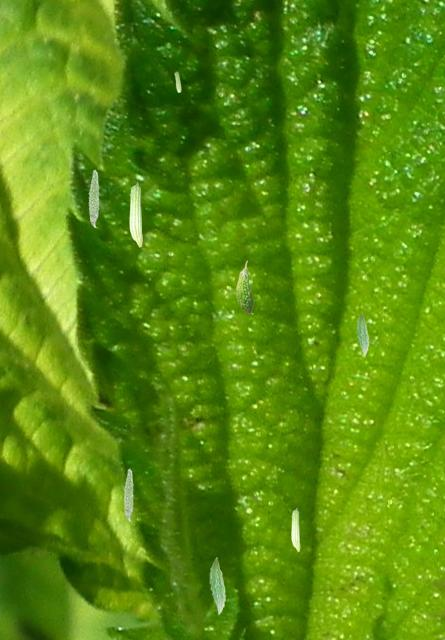ampalaya: (235, 260, 254, 315), (209, 556, 226, 615), (129, 181, 143, 247), (88, 169, 99, 228), (123, 468, 134, 522), (356, 312, 369, 357), (291, 507, 300, 552), (174, 71, 181, 92)
